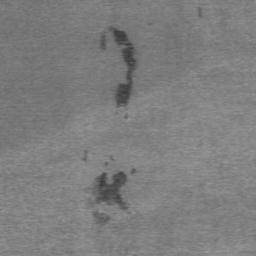Iron scale compression: (99, 27, 136, 108), (92, 172, 129, 211), (93, 212, 110, 224)
